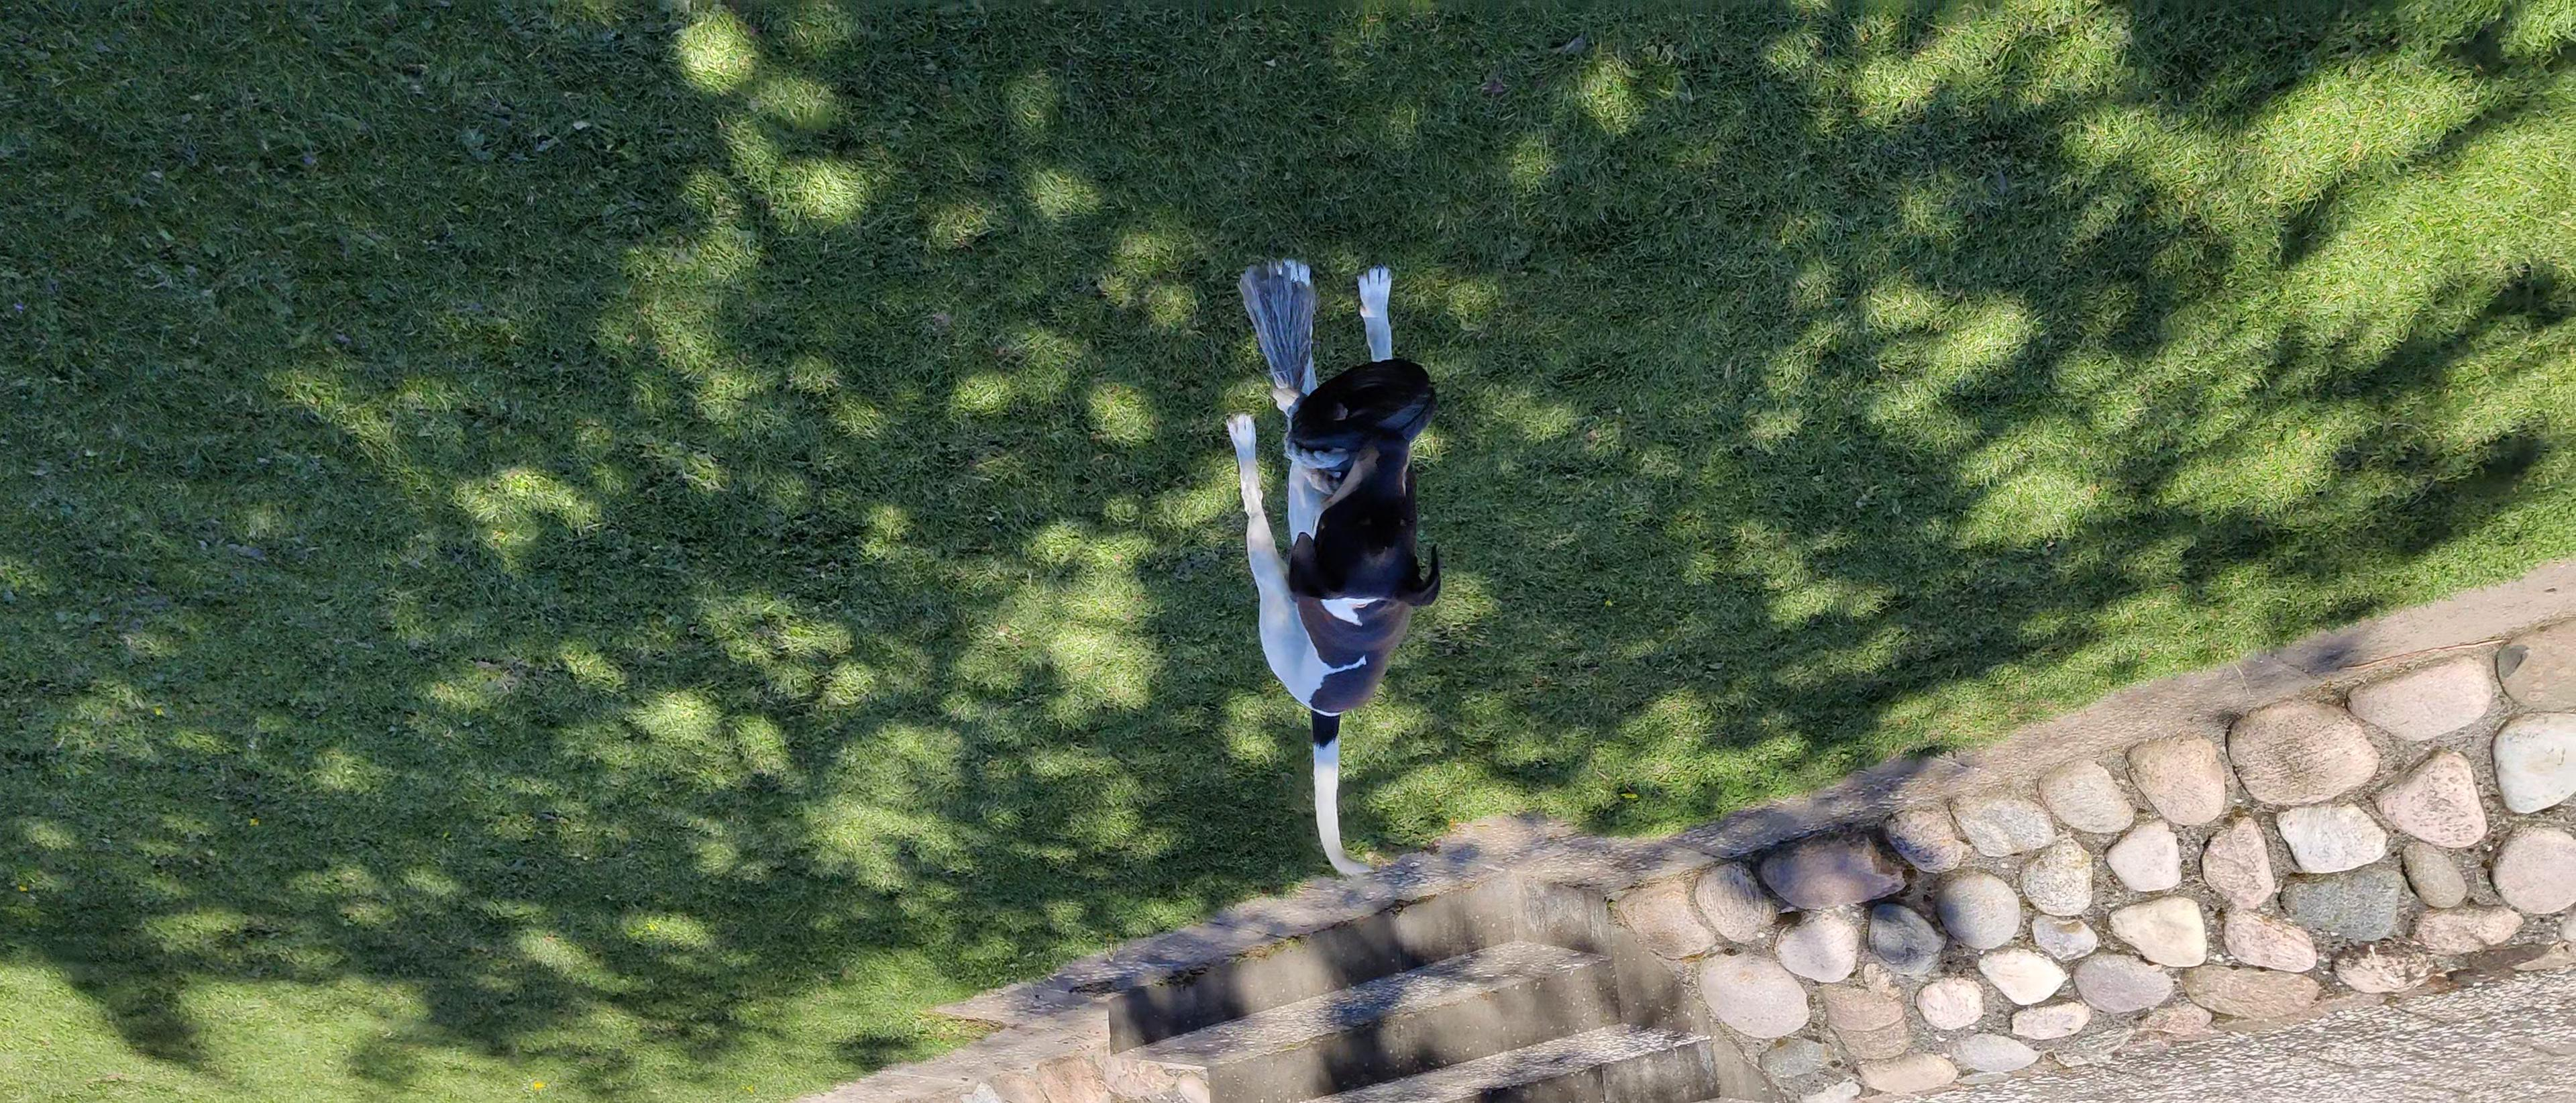Dog: (1186, 222, 1467, 896)
